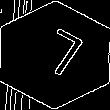L_SW: (25, 26, 85, 84)
